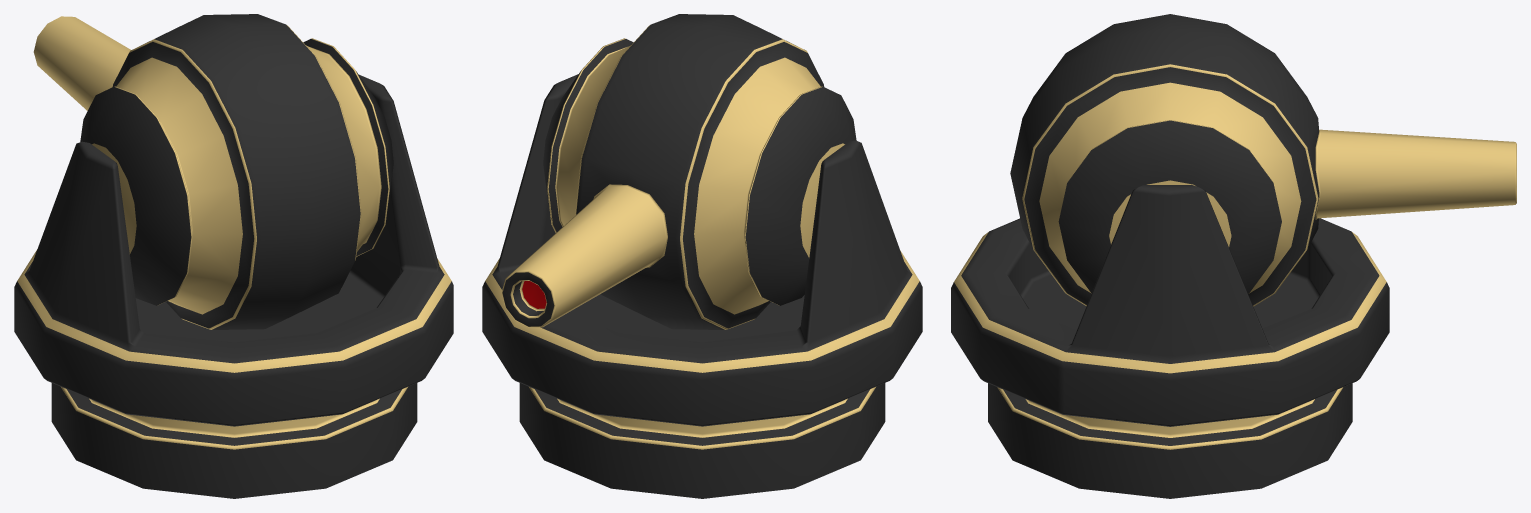
File: BallTurret.glb
The picture shows the model from 3 angles, left to right: view 1: azimuth 30°, elevation 25°; view 2: azimuth 150°, elevation 25°; view 3: azimuth 270°, elevation 25°; orthographic projection.
Visible parts, largest first — view 1: Barrel, Base, Mount; view 2: Barrel, Base, Mount; view 3: Barrel, Base, Mount.
Boxes of the visible parts, left/top/right/bottom form: Barrel: left=33, top=14, right=393, bottom=329; Base: left=14, top=74, right=453, bottom=426; Mount: left=51, top=383, right=417, bottom=498; Barrel: left=501, top=14, right=856, bottom=329; Base: left=482, top=74, right=922, bottom=426; Mount: left=519, top=383, right=885, bottom=498; Barrel: left=1010, top=14, right=1516, bottom=306; Base: left=951, top=185, right=1389, bottom=426; Mount: left=988, top=383, right=1352, bottom=498.
Bounding box in the file's own units: 1 × 0.9925 × 1.29.
